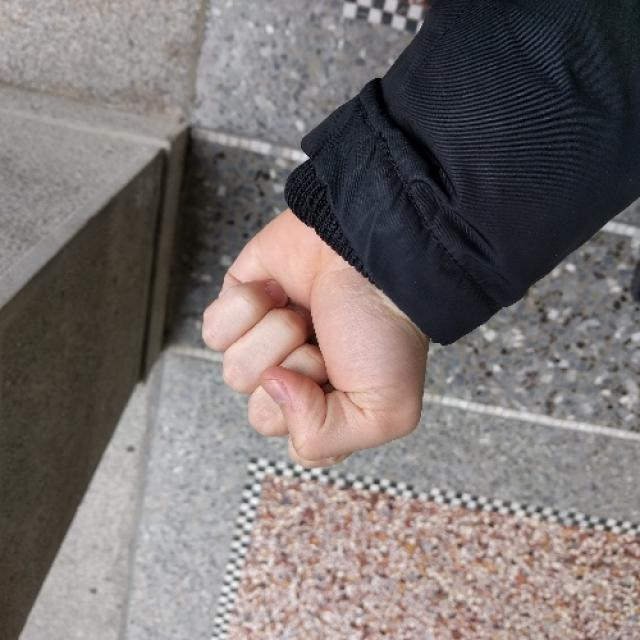rock: (204, 228, 422, 461)
